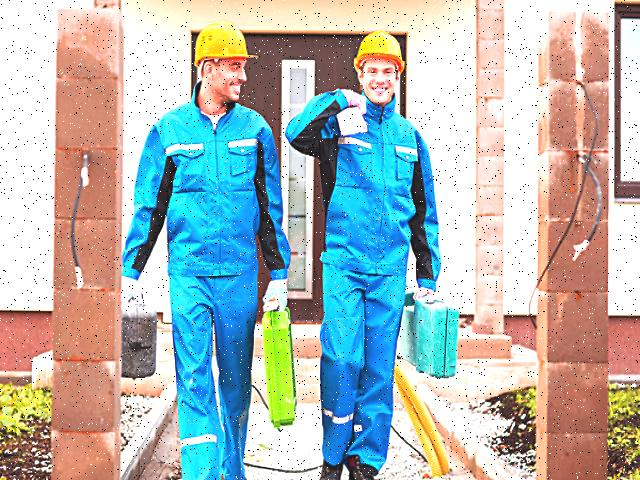Helmet: (192, 14, 254, 78), (350, 24, 407, 85)
